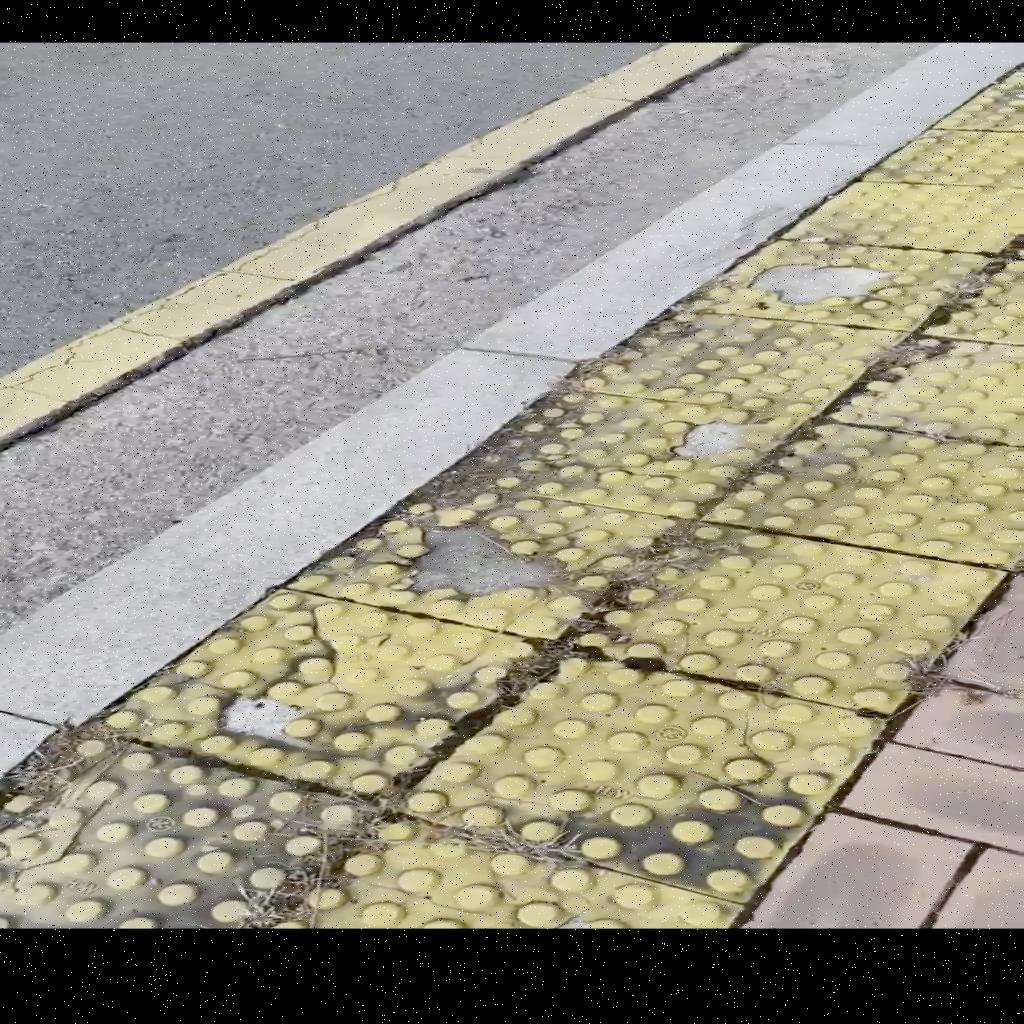Stop block broken: (83, 556, 556, 830), (289, 465, 690, 656), (441, 377, 805, 530), (682, 233, 993, 336)
Stop block normal: (563, 504, 1004, 728)
